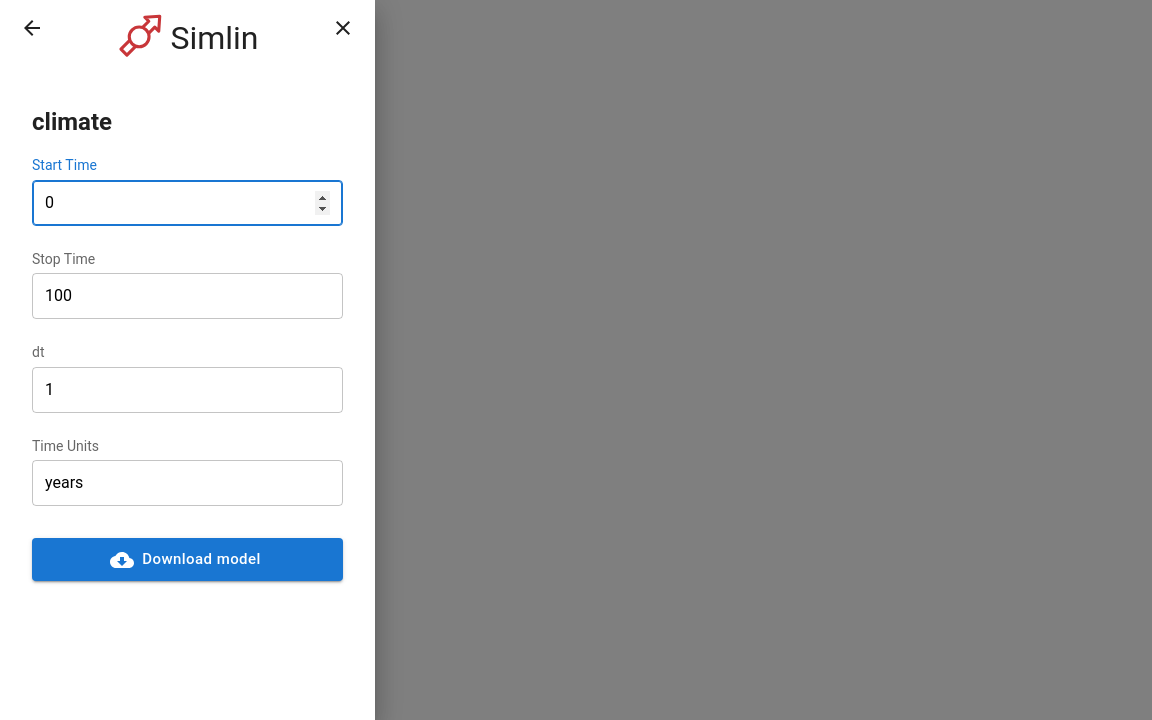
Test: ModelPropertiesDrawer › sim-specs draft commit (issue #55) › empty numeric input does not commit and reverts on blur
The width and height of the screenshot is (1152, 720).
Clear the number field labelled "Start Time" at [188, 203], box [45,181,330,225]
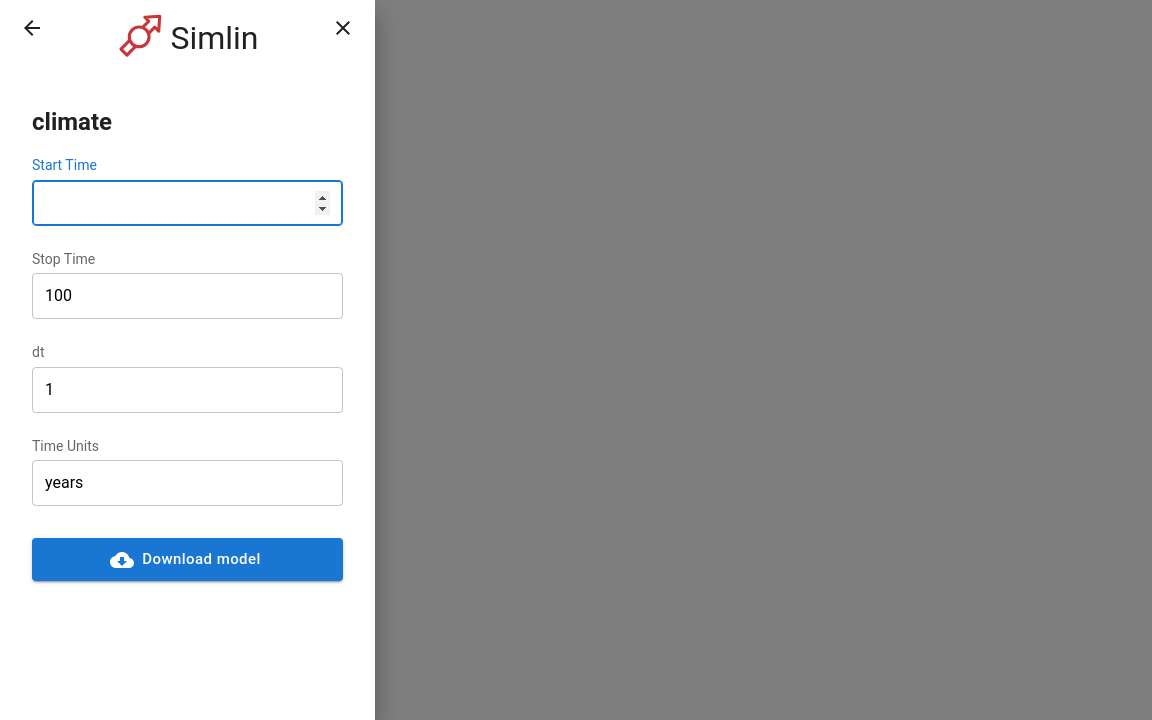
Leave the number field labelled "Start Time", box [45,181,330,225]
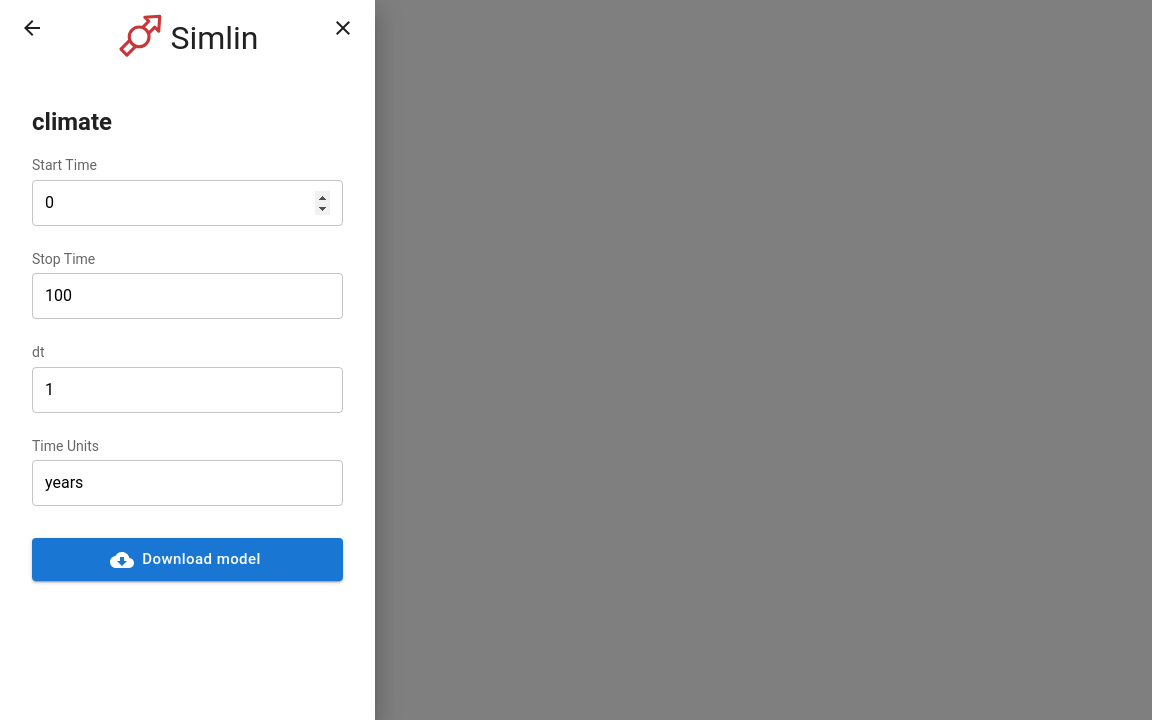
Result: the number field labelled "Start Time" holds "0" at [45,181,330,225]
